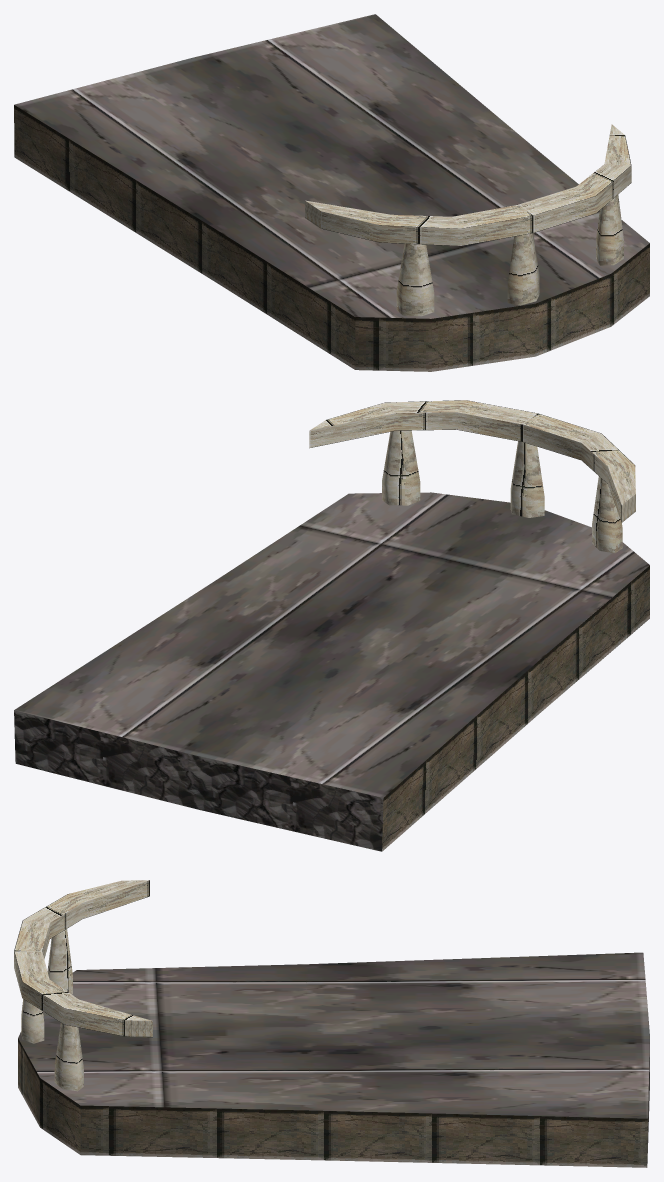
The model's file is INST_SM_WALKWAYC.obj.
3 views of the same model, one above another, from view 1: azimuth 30°, elevation 25°; view 2: azimuth 150°, elevation 25°; view 3: azimuth 270°, elevation 25° (orthographic). The views are drawn at different scales.
Visible parts, largest first — view 1: Object162; view 2: Object162; view 3: Object162.
Part boxes in pixels (x1,y1,x2,y2): Object162: (14,14,649,371); Object162: (14,400,649,851); Object162: (14,880,649,1167).
Bounding box in the file's own units: 439 × 166 × 709.
